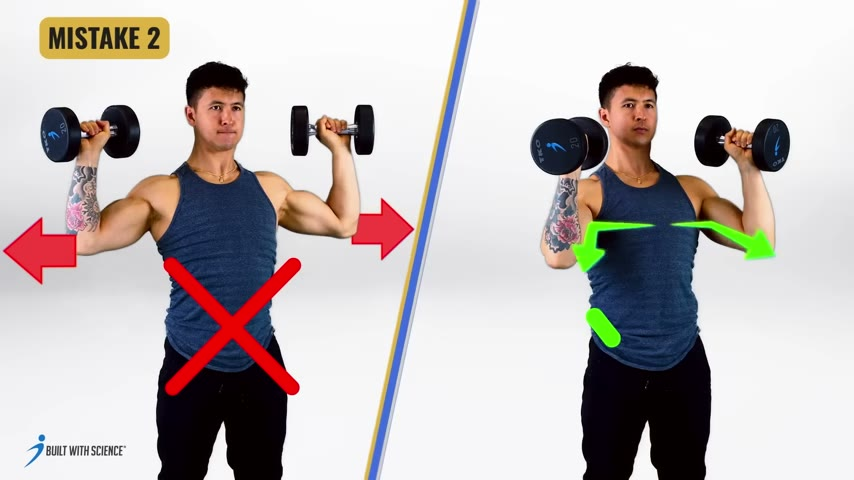barbell_plate_side: (688, 73, 797, 273), (525, 104, 612, 271)
